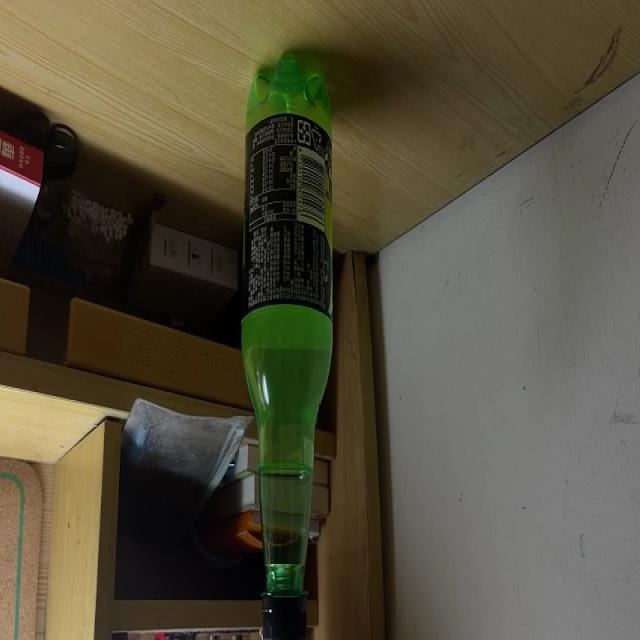Mountain-Dew: (242, 59, 333, 640)
